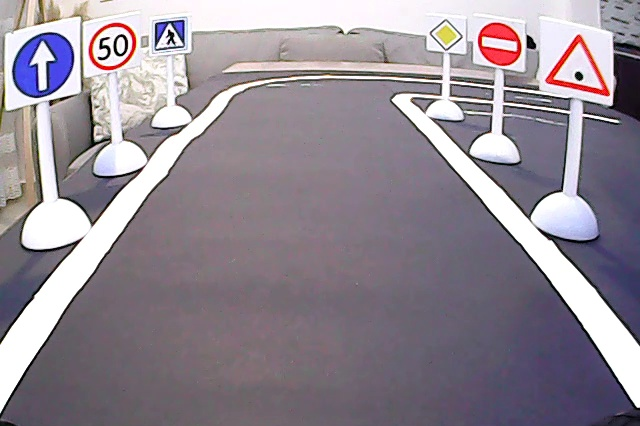do not enter: (474, 16, 525, 71)
green light: (542, 24, 609, 100)
pedestrian crossing: (151, 18, 190, 53)
speed limit 50: (81, 22, 140, 71)
